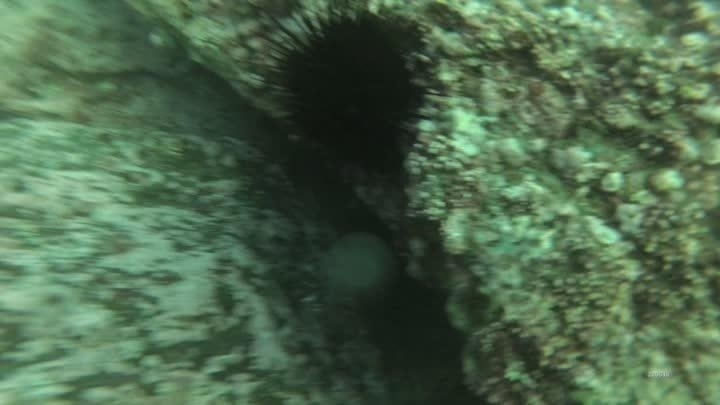echinus: (253, 6, 439, 183)
